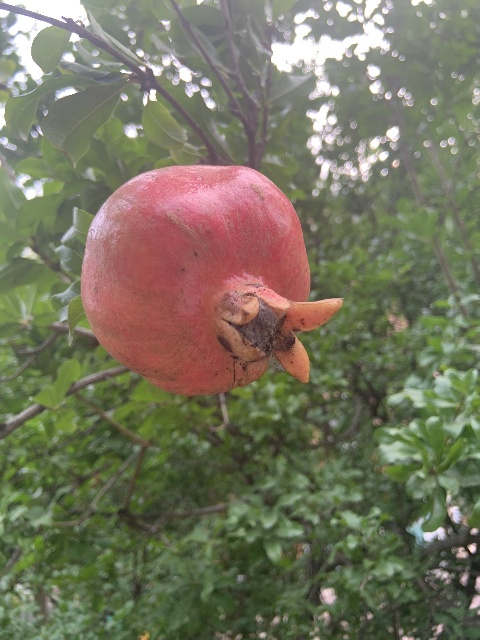ripe: (80, 164, 344, 395)
